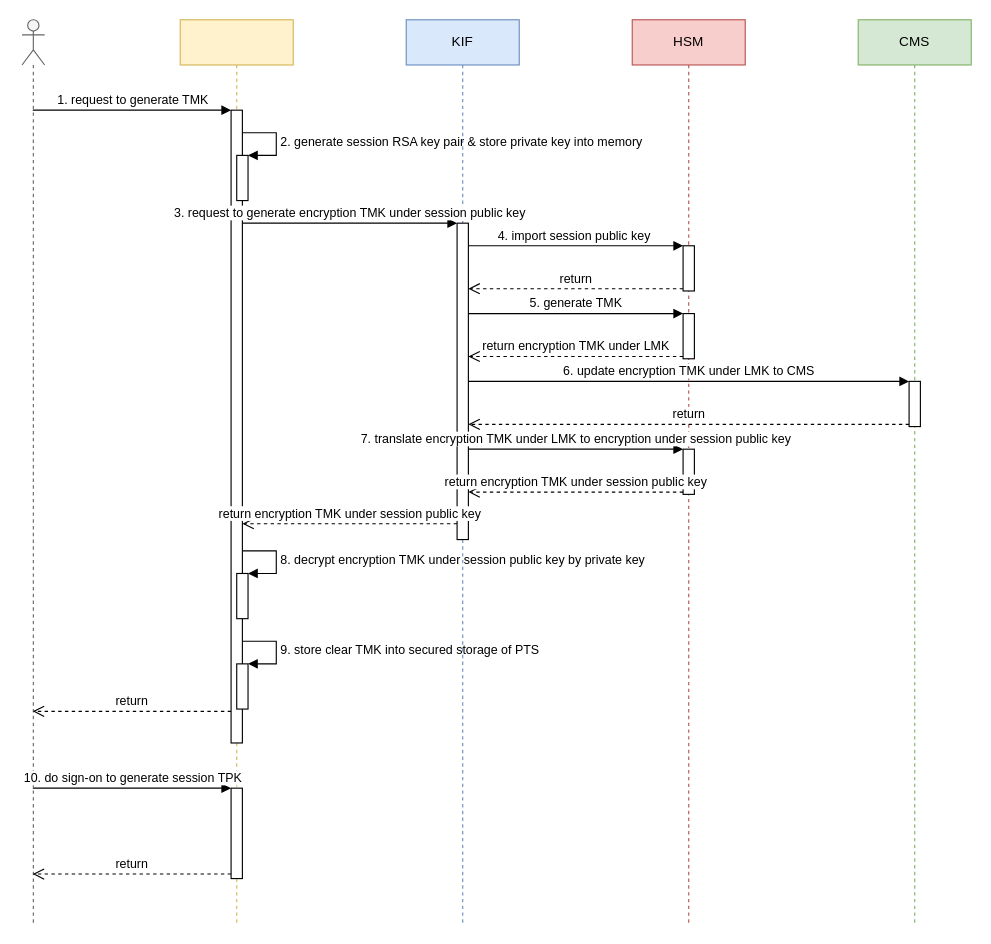
Image size: 991x944. Some labels were removed from this diagram. The shapes that lost their labels are listed below. From the top down, each one's box as (x1, y1, x2, y2) in pixels, then its label:
(21, 19, 45, 924): User
(179, 19, 293, 924): POS
